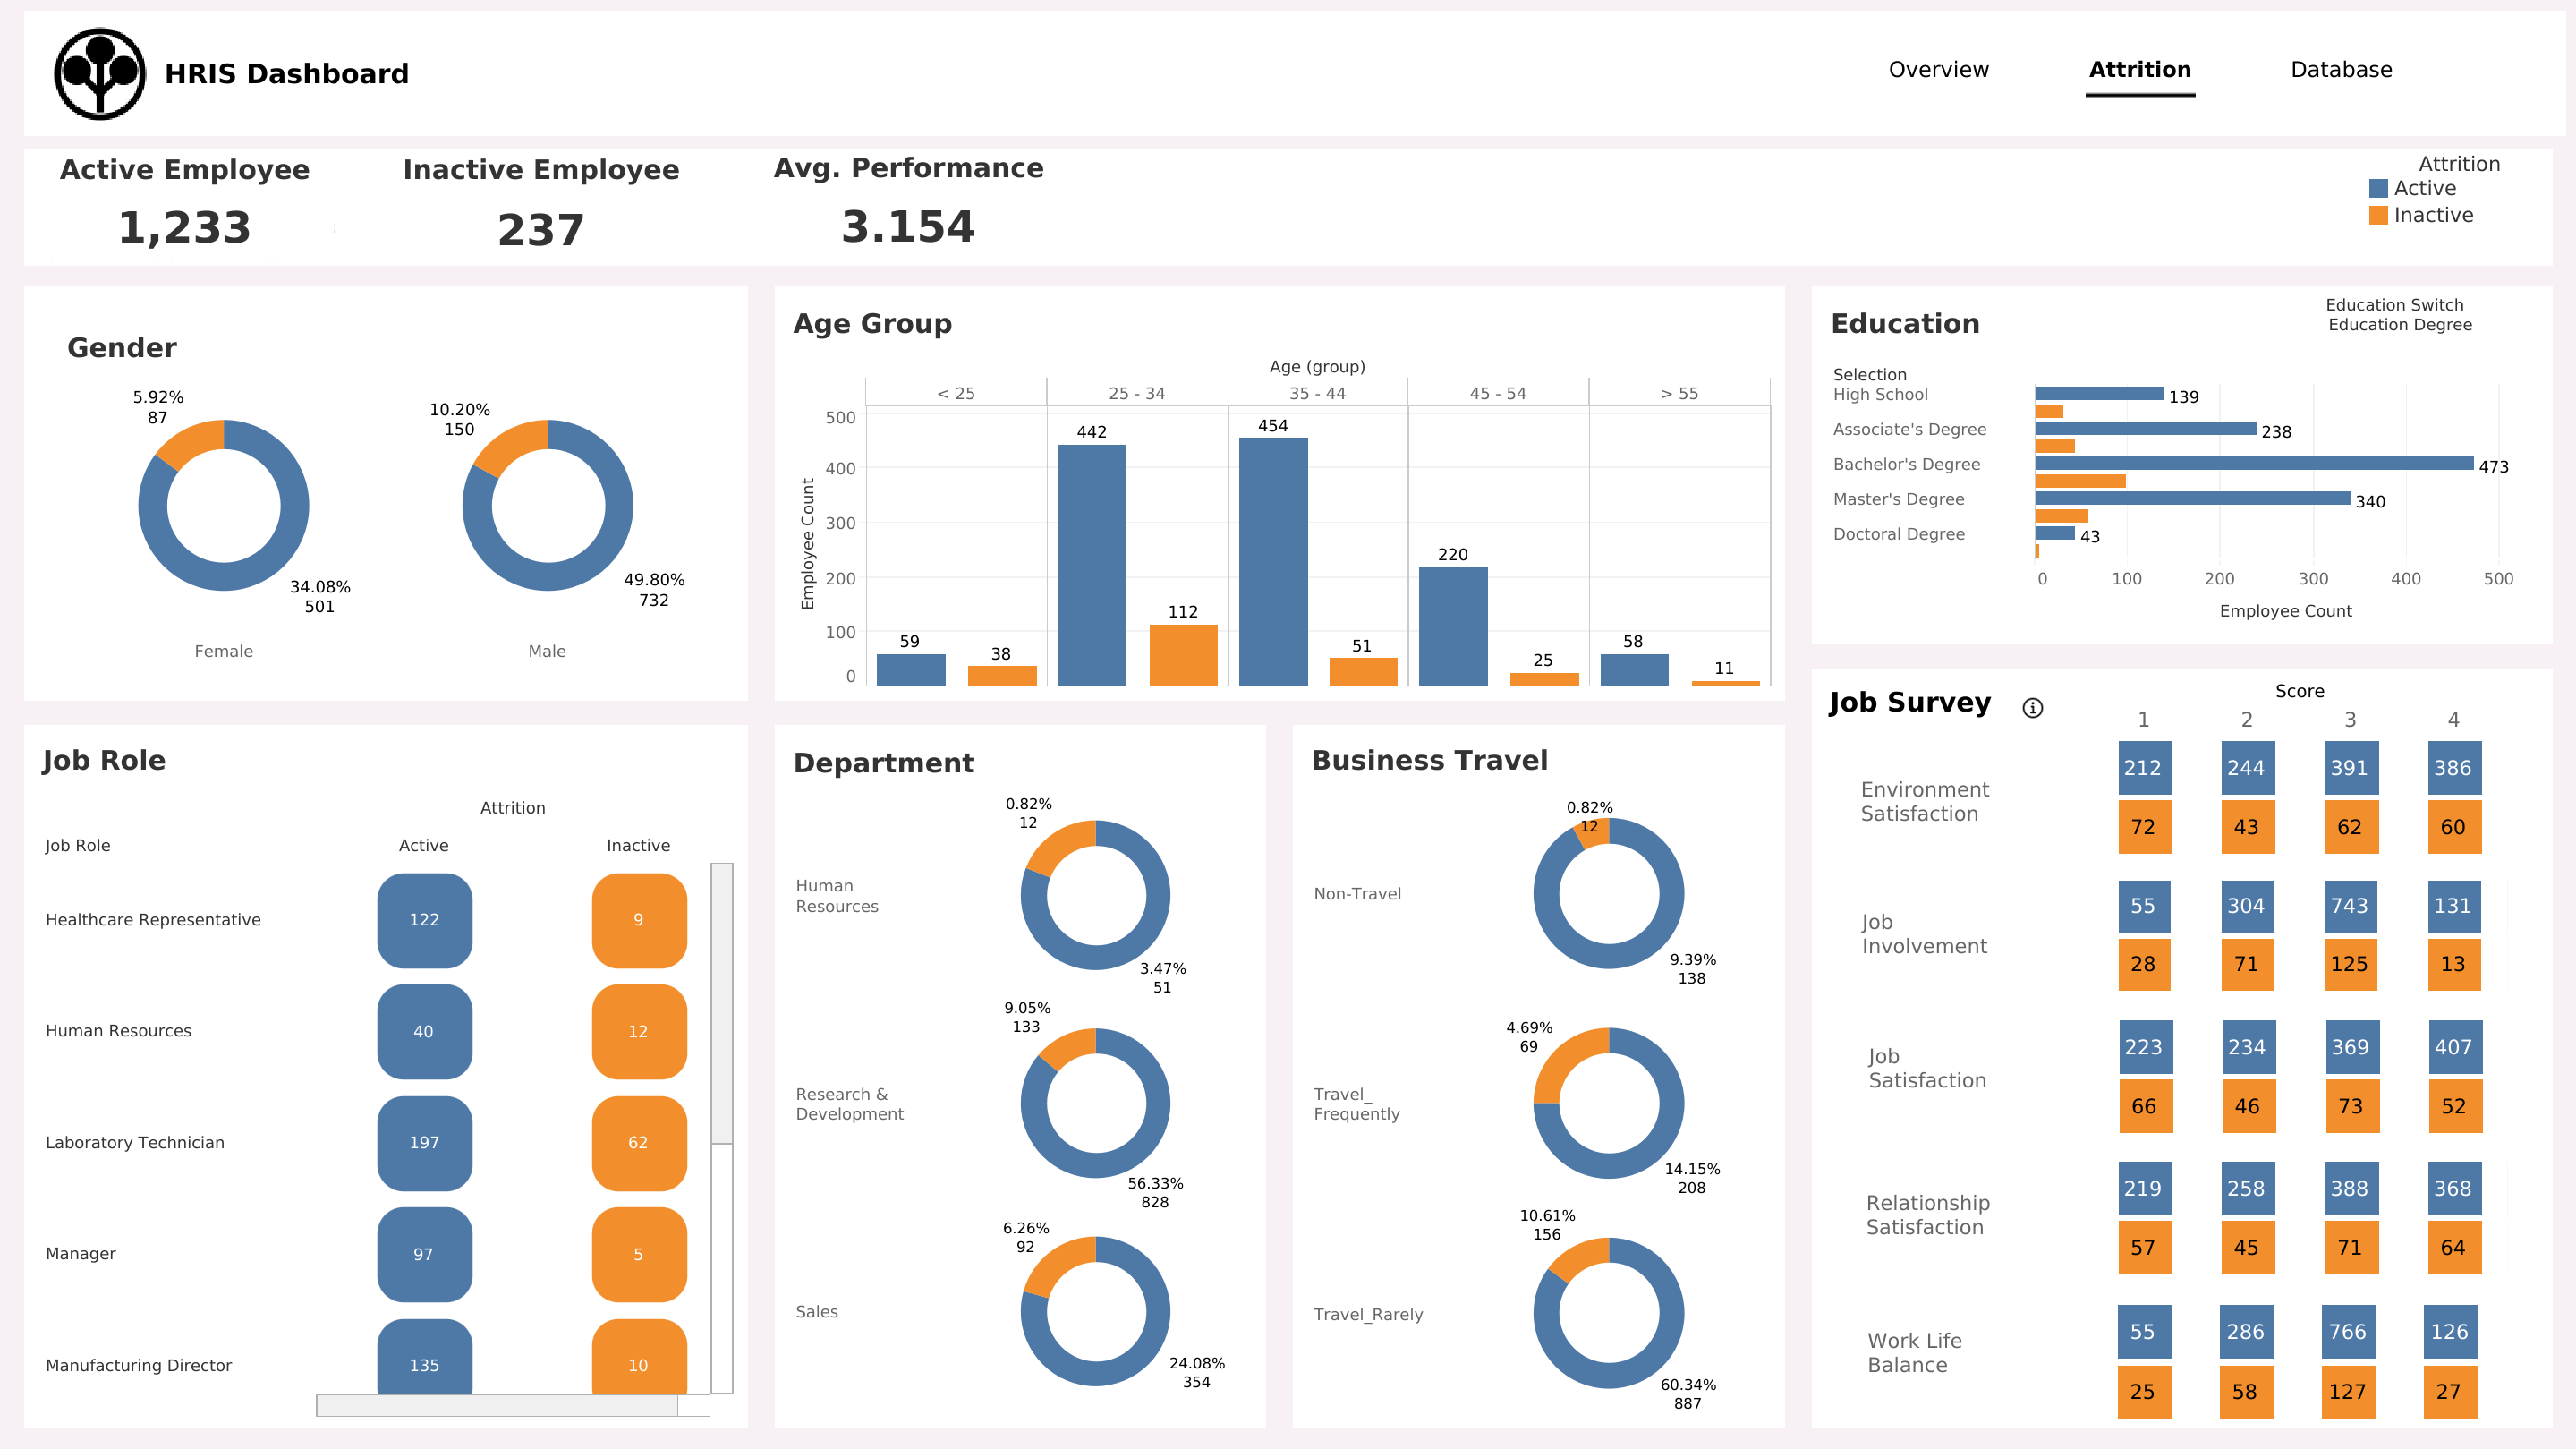

This screenshot's page, from the dashboard's own definition file:
{"tool":"tableau","page":{"name":"Attrition","canvas":[1920,1080],"ordinal":0},"visuals":[{"type":"image","param":"Image/logo1.png","box":[8,8,112,93]},{"type":"text","box":[120,8,1792,93]},{"type":"dashboard-object","box":[1375,25,140,52]},{"type":"dashboard-object","box":[1525,25,140,52]},{"type":"dashboard-object","box":[1675,25,140,52]},{"type":"image","param":"Image/pngwing.com.png","box":[1553,30,85,82]},{"type":"worksheet","title":"Performance Card (Attrition)","mark":"Automatic","box":[541,97,273,105]},{"type":"worksheet","title":"active","mark":"Automatic","cols":["Attrition"],"box":[18,98,240,103]},{"type":"worksheet","title":"nonactive","mark":"Automatic","cols":["Attrition"],"box":[262,98,283,108]},{"type":"legend","title":"Gender attrition donut","param":"[federated.0ts71qi1vnqie215kpdup1obga7r].[none:Attrition:nk]","box":[1762,111,140,76]},{"type":"worksheet","title":"Age Group (Attrition)","mark":"Bar","rows":["EmployeeCount"],"cols":["Attrition"],"box":[567,203,773,329]},{"type":"worksheet","title":"Education (Attrition)","mark":"Automatic","rows":["Calculation_931119267623354375","Attrition"],"cols":["EmployeeCount"],"box":[1340,203,572,287]},{"type":"parameter","param":"[Parameters].[Parameter 1]","box":[1733,218,160,48]},{"type":"worksheet","title":"Gender attrition donut","mark":"Pie","rows":["Calculation_1046242532804194307","Calculation_1046242532804194307"],"cols":["Gender"],"box":[28,223,519,289]},{"type":"worksheet","title":"Job Survey Tooltip","mark":"Shape","box":[1478,494,81,79]},{"type":"text","box":[1664,499,100,30]},{"type":"text","box":[1361,501,157,44]},{"type":"worksheet","title":"Environment Satisfaction (Att)","mark":"Square","cols":["EnvironmentSatisfaction","Calculation_501025504018886662"],"box":[1559,511,341,179]},{"type":"worksheet","title":"job role (Attrition)","mark":"Shape","rows":["JobRole"],"cols":["Attrition"],"box":[8,532,559,540]},{"type":"worksheet","title":"dept donut (attrition)","mark":"Pie","rows":["Department"],"cols":["Calculation_1046242532804194307","Calculation_1046242532804194307"],"box":[567,532,386.5,540]},{"type":"worksheet","title":"Travel (Attrition)","mark":"Pie","rows":["BusinessTravel"],"cols":["Calculation_1046242532804194307","Calculation_1046242532804194307"],"box":[953.5,532,386.5,540]},{"type":"text","box":[1384,561,127,71]},{"type":"worksheet","title":"Job Involvement (att)","mark":"Square","cols":["JobInvolvement","Calculation_501025504020357128"],"box":[1559,635,343,158]},{"type":"text","box":[1385,669,125,53]},{"type":"worksheet","title":"Job Satisfaction (att)","mark":"Square","cols":["JobSatisfaction","Calculation_501025504020357128"],"box":[1560,739,336,154]},{"type":"text","box":[1390,763,123,65]},{"type":"worksheet","title":"Relationship Satisfaction (att)","mark":"Square","cols":["RelationshipSatisfaction","Calculation_501025504020357128"],"box":[1559,844,323,151]},{"type":"text","box":[1388,876,121,57]},{"type":"text","box":[1389,983,117,49]}]}

Visuals, with their boxes in screenshot pixels (x1, y1, x2, y2), scaled from the page's 1920x1080 canvas onto the 2576x1449 screenshot:
image: bbox=(11, 11, 161, 135)
text: bbox=(161, 11, 2565, 135)
dashboard-object: bbox=(1845, 33, 2033, 103)
dashboard-object: bbox=(2046, 33, 2234, 103)
dashboard-object: bbox=(2248, 33, 2436, 103)
image: bbox=(2084, 40, 2198, 150)
"Performance Card (Attrition)" worksheet: bbox=(726, 130, 1092, 271)
"active" worksheet: bbox=(24, 132, 346, 269)
"nonactive" worksheet: bbox=(352, 132, 731, 277)
"Gender attrition donut" legend: bbox=(2364, 149, 2552, 251)
"Age Group (Attrition)" worksheet (Bar marks): bbox=(761, 272, 1798, 714)
"Education (Attrition)" worksheet: bbox=(1798, 272, 2565, 658)
parameter: bbox=(2325, 293, 2540, 357)
"Gender attrition donut" worksheet (Pie marks): bbox=(38, 299, 734, 687)
"Job Survey Tooltip" worksheet (Shape marks): bbox=(1983, 663, 2092, 769)
text: bbox=(2232, 669, 2367, 710)
text: bbox=(1826, 672, 2036, 731)
"Environment Satisfaction (Att)" worksheet (Square marks): bbox=(2092, 686, 2549, 925)
"job role (Attrition)" worksheet (Shape marks): bbox=(11, 714, 761, 1438)
"dept donut (attrition)" worksheet (Pie marks): bbox=(761, 714, 1279, 1438)
"Travel (Attrition)" worksheet (Pie marks): bbox=(1279, 714, 1798, 1438)
text: bbox=(1857, 753, 2028, 848)
"Job Involvement (att)" worksheet (Square marks): bbox=(2092, 852, 2552, 1064)
text: bbox=(1858, 898, 2026, 968)
"Job Satisfaction (att)" worksheet (Square marks): bbox=(2093, 992, 2544, 1198)
text: bbox=(1865, 1024, 2030, 1111)
"Relationship Satisfaction (att)" worksheet (Square marks): bbox=(2092, 1132, 2525, 1335)
text: bbox=(1862, 1175, 2025, 1252)
text: bbox=(1864, 1319, 2020, 1385)
